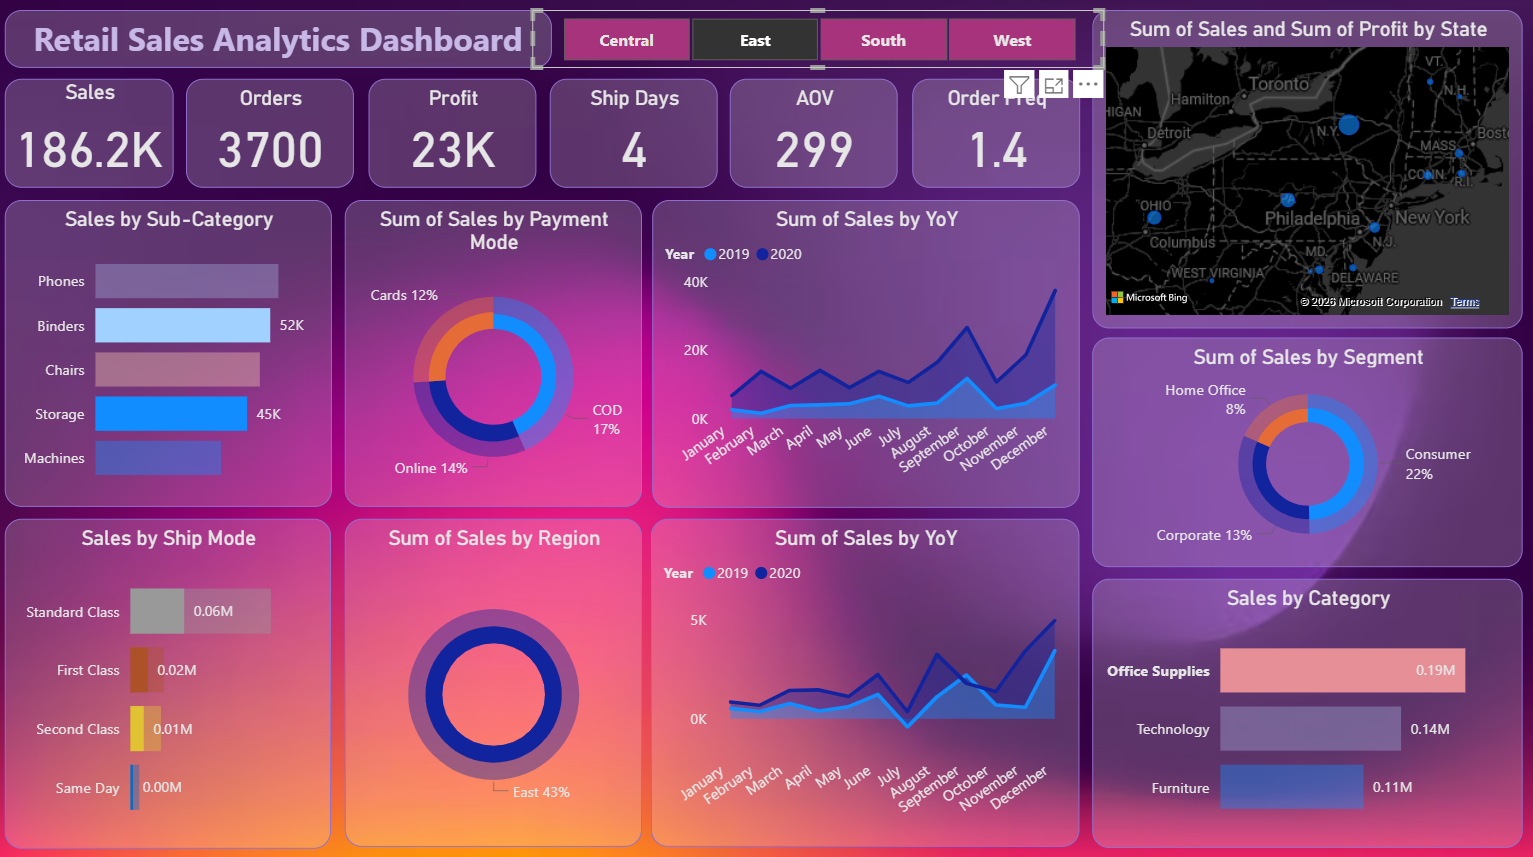

This screenshot's page, from the dashboard's own definition file:
{"tool":"powerbi","page":{"name":"Page 1","canvas":[1280,720],"ordinal":0},"visuals":[{"type":"clusteredBarChart","title":"Sales by Category","fields":{"Category":["SuperStore_Sales_Dataset.Category"],"Y":["Sum(SuperStore_Sales_Dataset.Sales)"]},"box":[912.9,484.3,357.1,222.9],"z":0},{"type":"clusteredBarChart","title":"Sales by Sub-Category","fields":{"Category":["SuperStore_Sales_Dataset.Sub-Category"],"Y":["Sum(SuperStore_Sales_Dataset.Sales)"]},"box":[11.1,170.1,271,254.4],"z":1000},{"type":"clusteredBarChart","title":"Sales by Ship Mode","fields":{"Category":["SuperStore_Sales_Dataset.Ship Mode"],"Y":["Sum(SuperStore_Sales_Dataset.Sales)"]},"box":[11.3,433.8,270.4,273.2],"z":2000},{"type":"stackedAreaChart","title":"Sum of Sales by YoY","fields":{"Y":["Sum(SuperStore_Sales_Dataset.Sales)"],"Category":["SuperStore_Sales_Dataset.Order Date.Variation.Date Hierarchy.Month"],"Series":["SuperStore_Sales_Dataset.Order Date.Variation.Date Hierarchy.Year"]},"box":[547.7,169.8,354.7,255],"z":3000},{"type":"map","fields":{"Category":["SuperStore_Sales_Dataset.State"],"Size":["Sum(SuperStore_Sales_Dataset.Sales)"]},"box":[912.9,12.9,357.1,264.3],"z":4000},{"type":"donutChart","fields":{"Category":["SuperStore_Sales_Dataset.Segment"],"Y":["Sum(SuperStore_Sales_Dataset.Sales)"]},"box":[912.9,284.3,357.1,190],"z":5000},{"type":"donutChart","fields":{"Category":["SuperStore_Sales_Dataset.Region"],"Y":["Sum(SuperStore_Sales_Dataset.Sales)"]},"box":[293,433.8,246.5,271.8],"z":6000},{"type":"donutChart","fields":{"Category":["SuperStore_Sales_Dataset.Payment Mode"],"Y":["Sum(SuperStore_Sales_Dataset.Sales)"]},"box":[293.1,170.1,246.1,254.4],"z":7000},{"type":"slicer","fields":{"Values":["SuperStore_Sales_Dataset.Region"]},"box":[448.6,12.9,474.3,48.6],"z":8000},{"type":"stackedAreaChart","title":"Sum of Sales by YoY","fields":{"Category":["SuperStore_Sales_Dataset.Order Date.Variation.Date Hierarchy.Month"],"Series":["SuperStore_Sales_Dataset.Order Date.Variation.Date Hierarchy.Year"],"Y":["Sum(SuperStore_Sales_Dataset.Profit)"]},"box":[547.5,434.1,355.3,272.4],"z":9000},{"type":"textbox","box":[11.1,12.4,453.5,48.4],"z":10000},{"type":"card","title":"Sales","fields":{"Values":["Sum(SuperStore_Sales_Dataset.Sales)"]},"box":[11.3,69,140,90],"z":11000},{"type":"card","title":"Orders","fields":{"Values":["Sum(SuperStore_Sales_Dataset.Quantity)"]},"box":[162,69,139.4,90.1],"z":12000},{"type":"card","title":"Profit","fields":{"Values":["Sum(SuperStore_Sales_Dataset.Profit)"]},"box":[312.7,69,139.4,90.1],"z":13000},{"type":"card","title":"Ship Days","fields":{"Values":["Avg(SuperStore_Sales_Dataset.AvgDelivery)"]},"box":[463.4,69,139.4,90.1],"z":14000},{"type":"card","title":"AOV","fields":{"Values":["Salesforecast.AOV"]},"box":[612.7,69,139.4,90.1],"z":15000},{"type":"card","title":"Order Freq","fields":{"Values":["Salesforecast.Orders per Customer"]},"box":[763.4,69,139.4,90.1],"z":16000}]}

Visuals, with their boxes in screenshot pixels (x1, y1, x2, y2), scaled from the page's 1280x720 canvas onto the 1533x857 screenshot:
"Sales by Category" clusteredBarChart: l=1093, t=576, r=1521, b=842
"Sales by Sub-Category" clusteredBarChart: l=13, t=202, r=338, b=505
"Sales by Ship Mode" clusteredBarChart: l=14, t=516, r=337, b=842
"Sum of Sales by YoY" stackedAreaChart: l=656, t=202, r=1081, b=506
map - SuperStore_Sales_Dataset.State x Sum(SuperStore_Sales_Dataset.Sales): l=1093, t=15, r=1521, b=330
donutChart - SuperStore_Sales_Dataset.Segment x Sum(SuperStore_Sales_Dataset.Sales): l=1093, t=338, r=1521, b=565
donutChart - SuperStore_Sales_Dataset.Region x Sum(SuperStore_Sales_Dataset.Sales): l=351, t=516, r=646, b=840
donutChart - SuperStore_Sales_Dataset.Payment Mode x Sum(SuperStore_Sales_Dataset.Sales): l=351, t=202, r=646, b=505
slicer - SuperStore_Sales_Dataset.Region: l=537, t=15, r=1105, b=73
"Sum of Sales by YoY" stackedAreaChart: l=656, t=517, r=1081, b=841
textbox: l=13, t=15, r=556, b=72
"Sales" card: l=14, t=82, r=181, b=189
"Orders" card: l=194, t=82, r=361, b=189
"Profit" card: l=375, t=82, r=541, b=189
"Ship Days" card: l=555, t=82, r=722, b=189
"AOV" card: l=734, t=82, r=901, b=189
"Order Freq" card: l=914, t=82, r=1081, b=189
